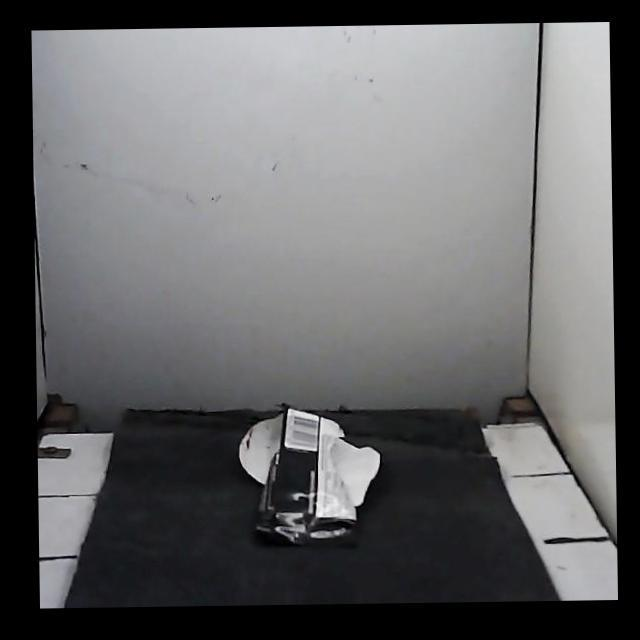plastico: (241, 406, 379, 544)
